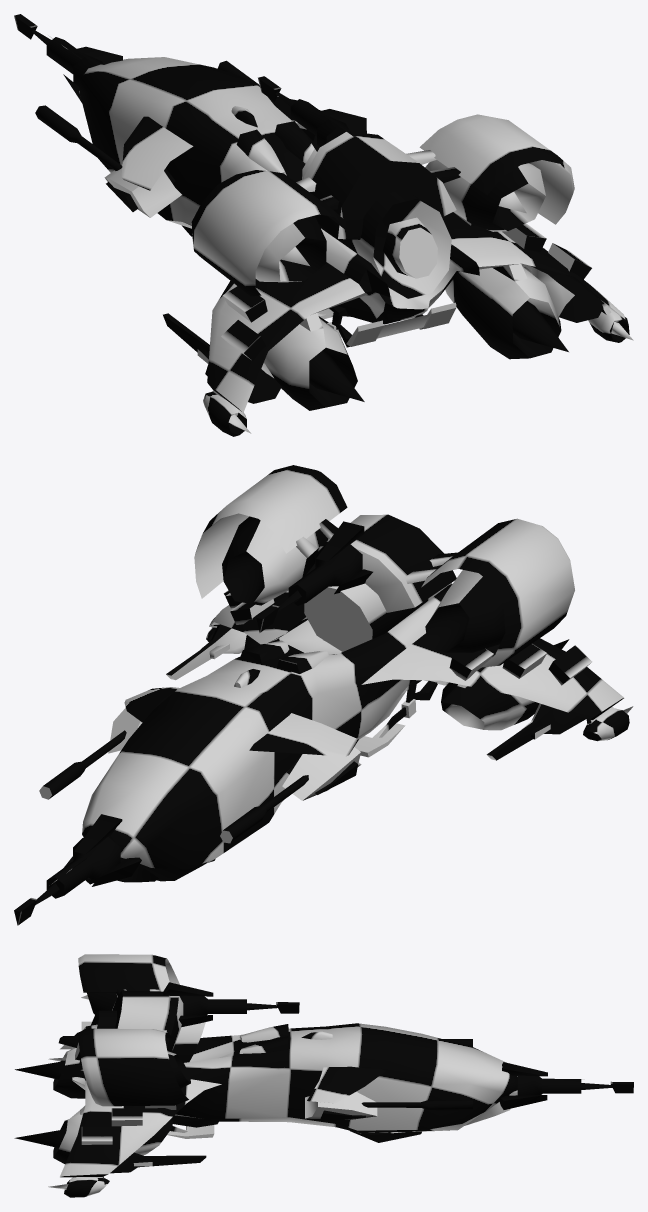
Rendered from nostromo.obj.
3 renders of one model, top to bottom at view 1: azimuth 30°, elevation 25°; view 2: azimuth 150°, elevation 25°; view 3: azimuth 270°, elevation 25°, orthographic. The views are drawn at different scales.
Parts seen in each view (by area): view 1: main; view 2: main; view 3: main.
Boxes of the visible parts, bbox=[...] form: main: bbox=[14, 14, 633, 436]; main: bbox=[14, 465, 633, 925]; main: bbox=[14, 954, 633, 1197].
Bounding box in the file's own units: 66.27 × 34.84 × 127.
1 material, 1 textured.
